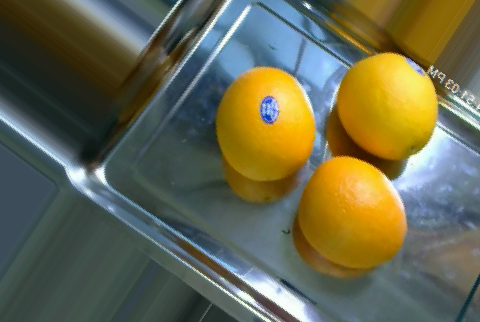Orange: (297, 155, 406, 269), (215, 66, 317, 180), (336, 51, 438, 161)
